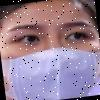mask: (0, 44, 100, 100)
